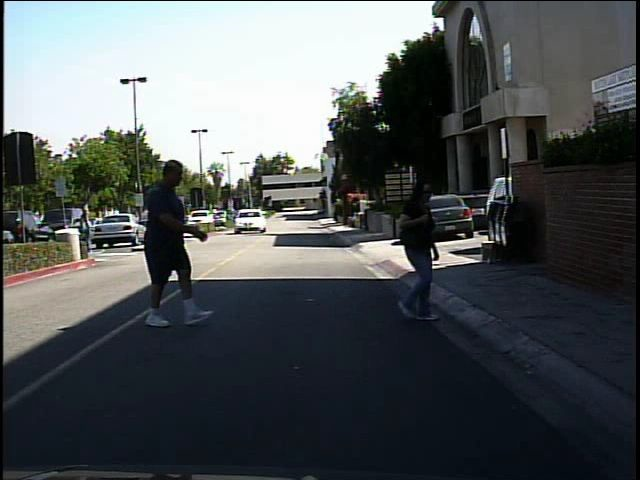person: (118, 158, 217, 331), (385, 168, 460, 323), (73, 203, 94, 258)
